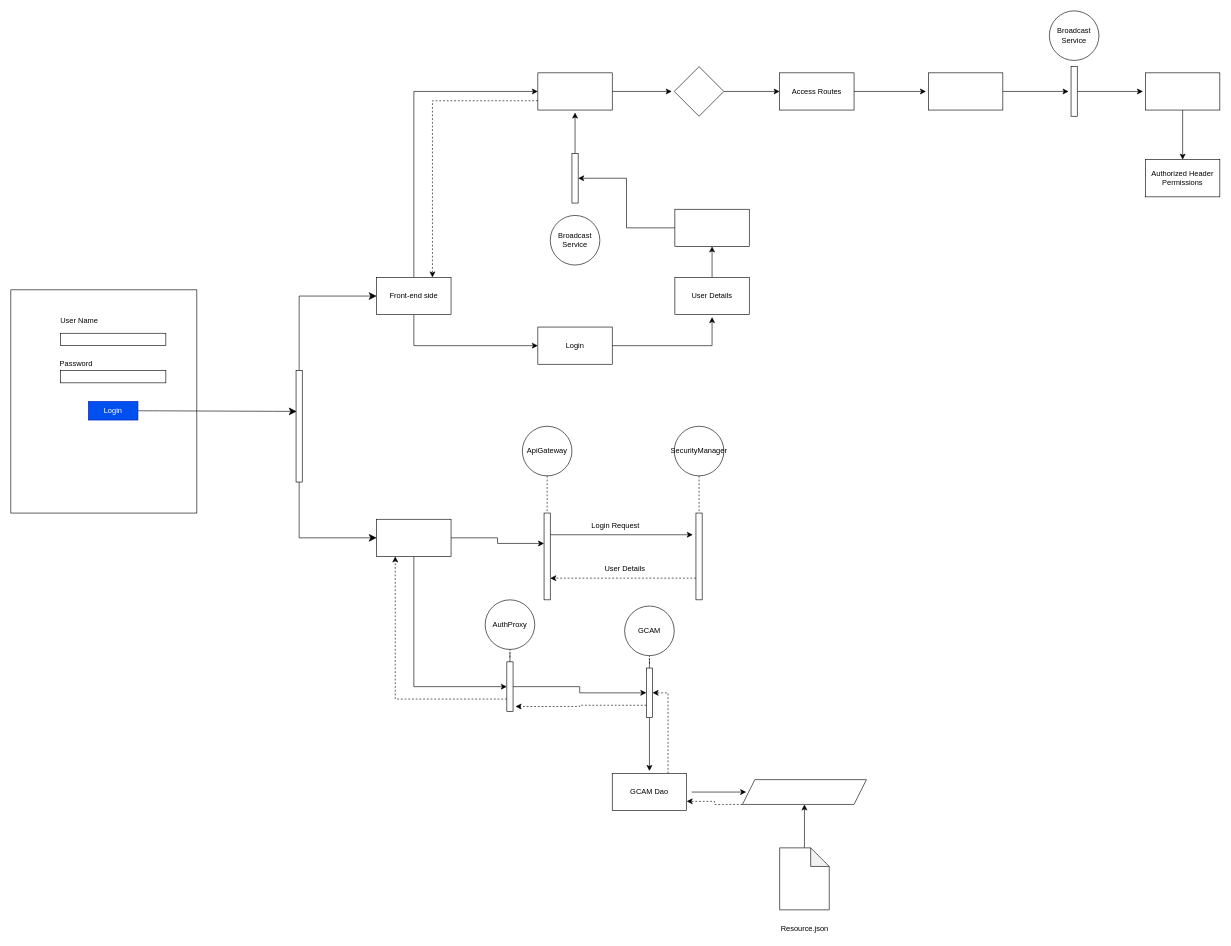
The diagram is 1231 pixels wide and 946 high, and some of its shapes have lost their labels. The shapes that lost their labels are listed below. From the top down, each one's box as (x1, y1, x2, y2) in pixels, then its label:
(537, 72, 612, 110): Auth-gaurd
(674, 66, 724, 116): Role
(928, 72, 1003, 110): Permissions
(1145, 72, 1220, 110): Headers
(674, 209, 749, 246): Access
(376, 519, 451, 556): Back-end side
(742, 779, 866, 804): Get response from JSON
